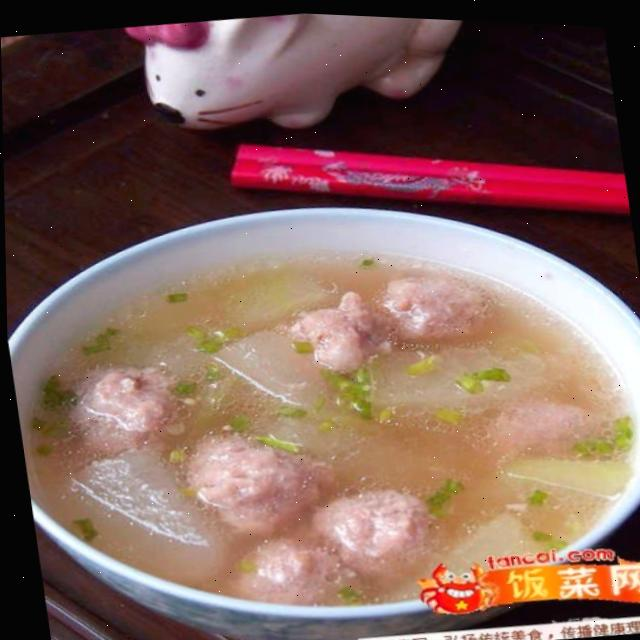汤锅炖物: (3, 179, 640, 640)
